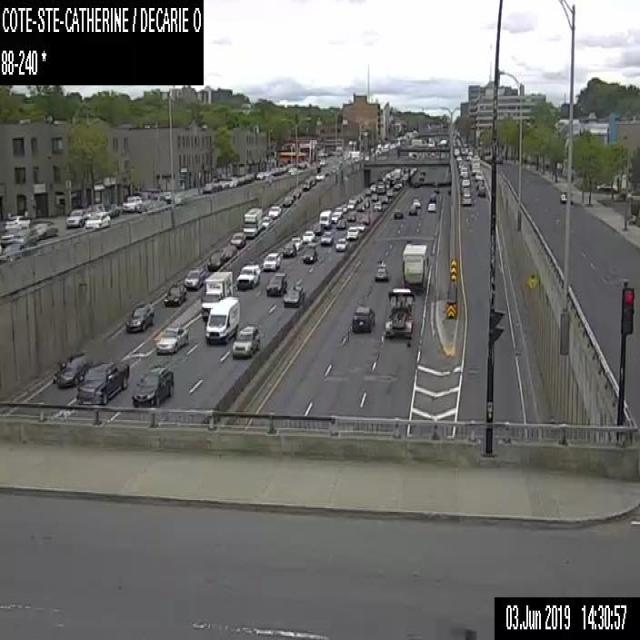vehicle: (76, 361, 130, 404), (131, 364, 173, 407), (204, 295, 239, 344), (201, 270, 232, 321), (384, 287, 414, 338), (401, 244, 428, 292), (52, 354, 87, 388), (155, 324, 188, 354), (124, 301, 154, 332), (232, 324, 259, 358), (351, 304, 375, 333), (235, 264, 260, 290), (242, 207, 262, 238), (163, 282, 186, 306), (184, 266, 205, 290), (266, 271, 286, 296), (31, 220, 57, 238), (84, 211, 110, 228), (282, 286, 304, 306), (5, 214, 29, 232), (65, 208, 86, 227), (207, 250, 224, 270), (373, 260, 388, 281), (122, 196, 141, 212), (263, 252, 280, 269), (347, 192, 363, 210), (229, 232, 246, 247), (105, 202, 120, 218), (319, 209, 331, 229), (222, 243, 236, 258), (86, 202, 104, 213), (302, 248, 316, 262), (282, 242, 296, 256), (319, 230, 333, 244), (333, 237, 348, 250), (560, 188, 572, 203), (376, 176, 386, 193), (346, 225, 358, 239), (202, 182, 217, 193), (268, 205, 280, 217), (302, 229, 314, 241), (213, 177, 224, 190), (426, 198, 436, 212), (291, 236, 302, 248), (225, 176, 236, 187), (461, 192, 470, 205), (392, 209, 403, 219), (282, 196, 292, 207), (290, 188, 300, 199), (312, 223, 323, 233), (335, 219, 346, 229), (346, 210, 356, 221), (360, 212, 370, 223), (262, 216, 271, 228), (471, 159, 479, 172), (302, 178, 311, 189), (333, 206, 342, 217), (412, 196, 420, 208), (459, 166, 467, 177), (477, 186, 485, 197), (330, 212, 338, 222), (373, 200, 381, 210), (408, 204, 416, 214), (475, 180, 483, 190), (315, 172, 324, 180), (355, 223, 365, 230), (256, 171, 264, 179), (380, 195, 388, 203), (356, 203, 364, 211), (461, 177, 469, 185), (363, 197, 369, 207), (370, 194, 378, 201), (474, 171, 482, 178), (341, 202, 346, 212), (370, 184, 376, 191), (393, 183, 399, 190), (396, 180, 402, 187), (364, 188, 370, 195), (387, 188, 392, 196), (418, 174, 424, 180), (419, 170, 425, 174)
